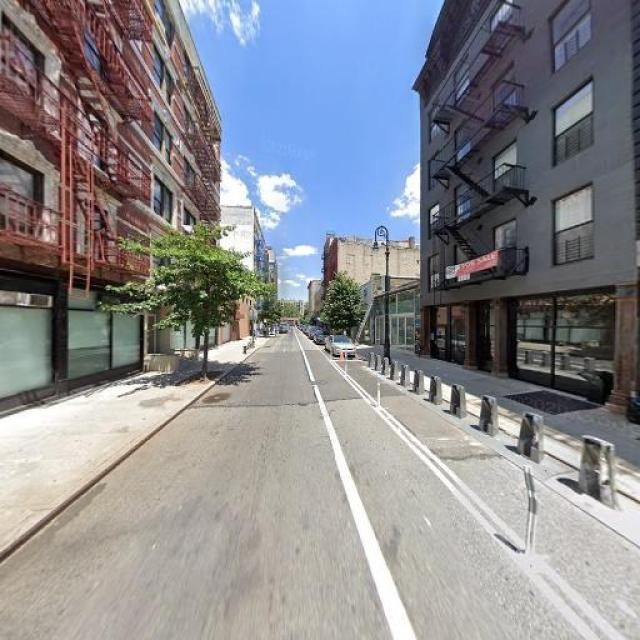Building: (420, 1, 640, 419), (1, 1, 212, 414)
